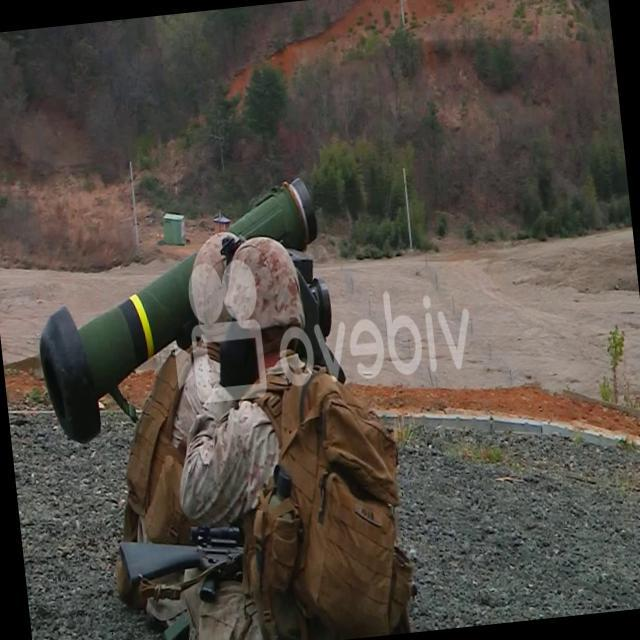rocket: (24, 175, 330, 445)
